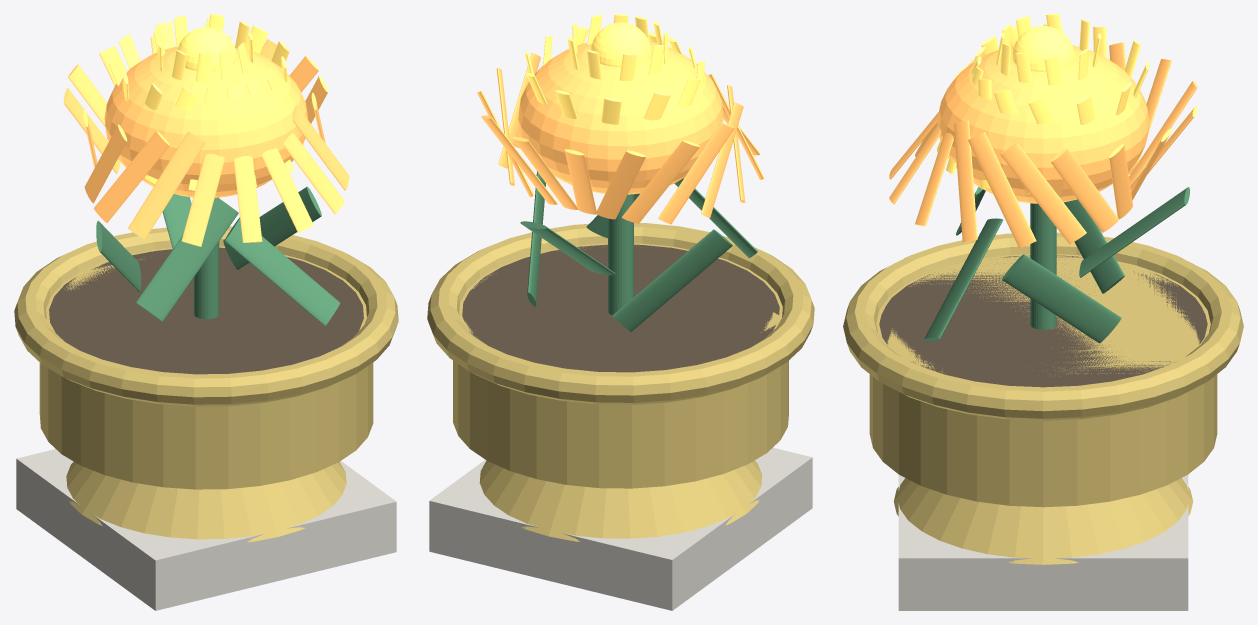
The model's file is flora_golden_chrysanthemum.glb.
3 views of the same model, side by side, from view 1: azimuth 30°, elevation 25°; view 2: azimuth 150°, elevation 25°; view 3: azimuth 270°, elevation 25° (orthographic). The views are drawn at different scales.
Parts seen in each view (by area): view 1: Cylinder, Cylinder.001, Cube, Torus, Sphere, Cone, Cylinder.006, Cylinder.007, Cylinder.019, Cylinder.018, Cylinder.020, Cylinder.003 (+13 smaller); view 2: Cylinder, Cylinder.001, Cube, Torus, Sphere, Cone, Cylinder.005, Cylinder.002, Sphere.001, Cylinder.015, Cylinder.016, Cylinder.014 (+11 smaller); view 3: Cylinder, Torus, Cube, Cylinder.001, Sphere, Cone, Cylinder.003, Cylinder.008, Cylinder.025, Cylinder.007, Cylinder.002, Cylinder.009 (+9 smaller).
Part boxes in pixels (<box>): Cylinder: <box>39,246,373,489</box>; Cylinder.001: <box>49,247,363,374</box>; Cube: <box>16,449,396,610</box>; Torus: <box>14,226,398,406</box>; Sphere: <box>104,46,307,197</box>; Cone: <box>66,461,346,542</box>; Cylinder.006: <box>136,197,238,321</box>; Cylinder.007: <box>224,217,340,326</box>; Cylinder.019: <box>128,131,205,239</box>; Cylinder.018: <box>94,130,169,222</box>; Cylinder.020: <box>181,153,224,246</box>; Cylinder.003: <box>223,186,321,269</box>; Cylinder: <box>453,243,788,488</box>; Cylinder.001: <box>462,244,779,372</box>; Cube: <box>429,447,812,610</box>; Torus: <box>427,223,814,404</box>; Sphere: <box>518,41,723,194</box>; Cone: <box>479,460,762,541</box>; Cylinder.005: <box>612,229,732,331</box>; Cylinder.002: <box>608,194,633,315</box>; Sphere.001: <box>591,22,651,66</box>; Cylinder.015: <box>621,140,700,223</box>; Cylinder.016: <box>658,122,734,224</box>; Cylinder.014: <box>596,150,645,219</box>; Cylinder: <box>869,254,1217,507</box>; Torus: <box>843,232,1243,420</box>; Cube: <box>898,475,1188,610</box>; Cylinder.001: <box>879,255,1207,387</box>; Sphere: <box>937,45,1149,203</box>; Cone: <box>893,478,1193,564</box>; Cylinder.003: <box>1002,254,1121,343</box>; Cylinder.008: <box>1000,143,1086,243</box>; Cylinder.025: <box>968,132,1036,248</box>; Cylinder.007: <box>924,218,1002,341</box>; Cylinder.002: <box>1030,203,1056,329</box>; Cylinder.009: <box>1050,148,1118,232</box>.
Bounding box in the file's own units: 1.66 × 2.38 × 1.66.
